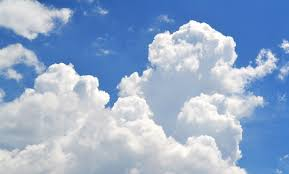sky: (1, 1, 288, 174)
